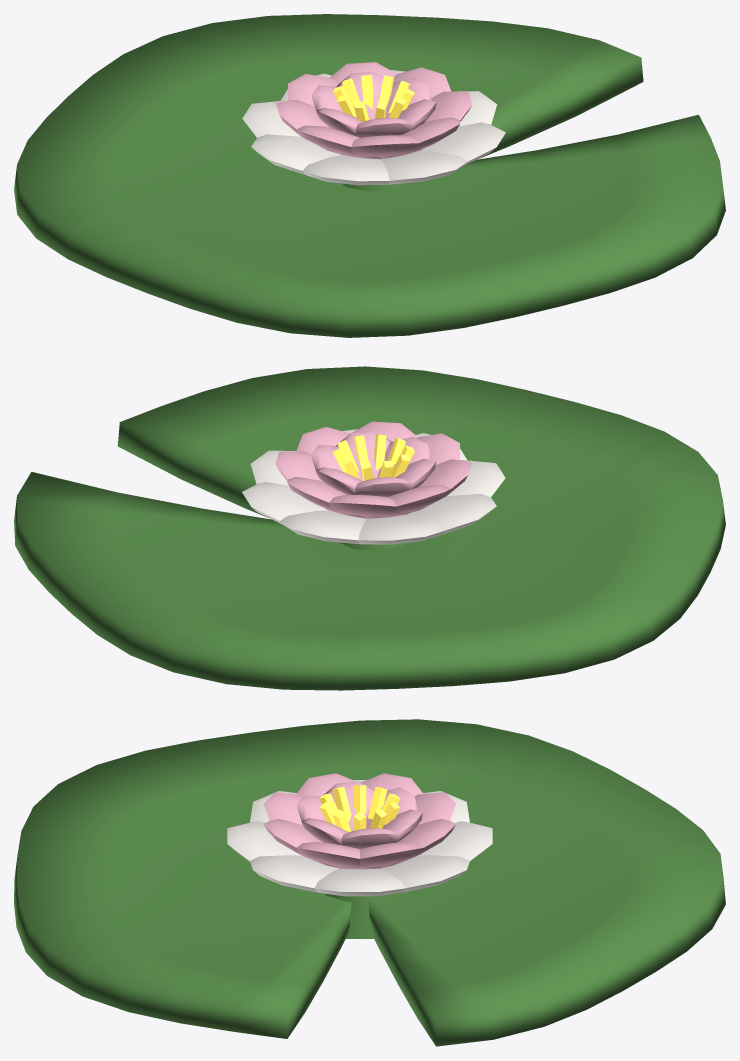
Rendered from lily_pad.glb.
The picture shows the model from 3 angles, top to bottom: view 1: azimuth 30°, elevation 25°; view 2: azimuth 150°, elevation 25°; view 3: azimuth 270°, elevation 25°; orthographic projection.
Visible parts, largest first — view 1: pad, lily; view 2: pad, lily; view 3: pad, lily.
Boxes of the visible parts, bbox=[...] form: pad: bbox=[14, 14, 725, 337]; lily: bbox=[242, 62, 505, 191]; pad: bbox=[14, 366, 725, 690]; lily: bbox=[242, 421, 505, 550]; pad: bbox=[14, 719, 725, 1046]; lily: bbox=[227, 773, 492, 938].
Size of the model in its own units: 0.2536 by 0.0459 by 0.2518.
